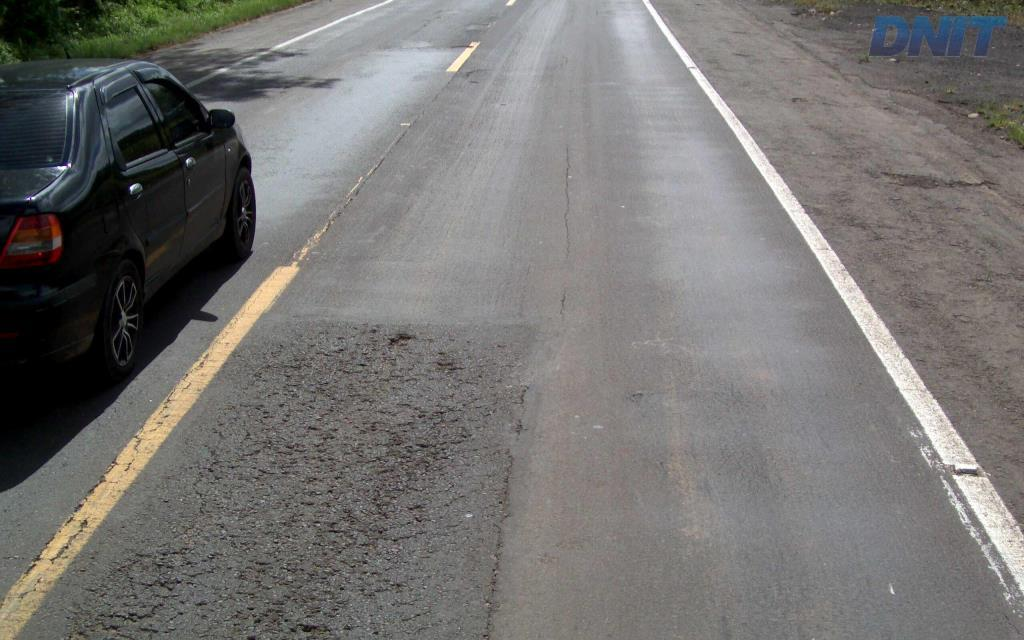crack: (94, 603, 163, 629)
pothole: (384, 328, 416, 357)
